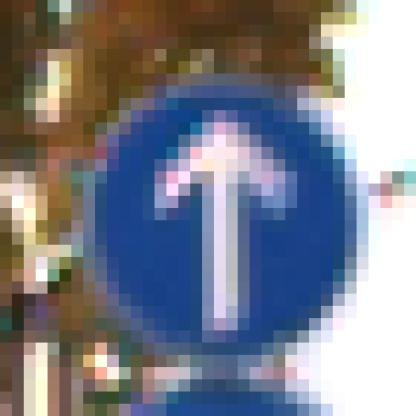AheadOnly: (72, 62, 346, 344)
